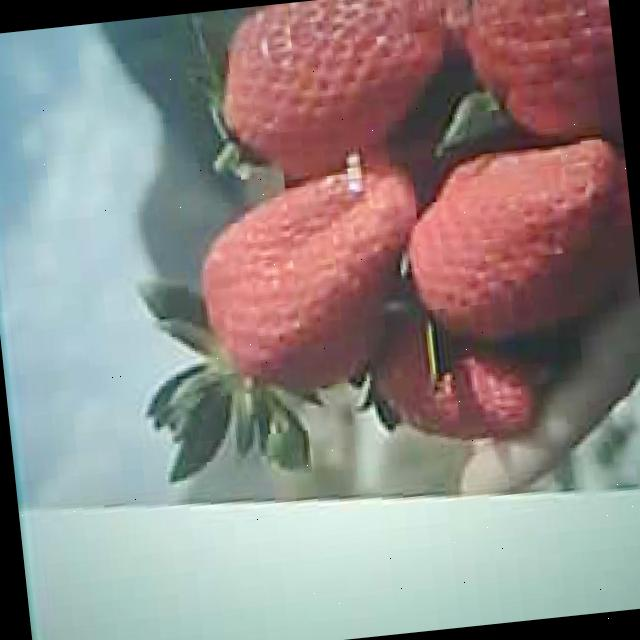strawberry: (181, 162, 435, 398), (394, 132, 638, 350), (199, 0, 465, 180)
